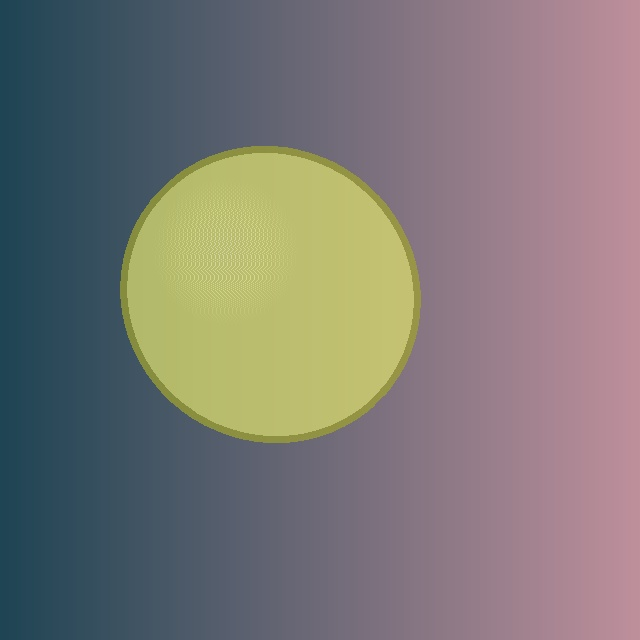lens: (124, 150, 416, 438)
